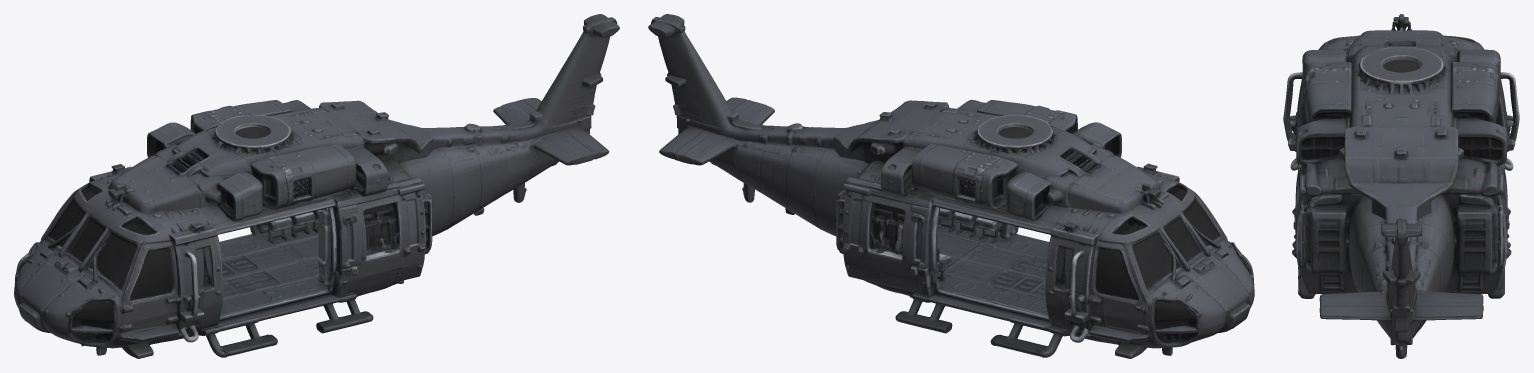
The model's file is military_helicopter.glb.
The picture shows the model from 3 angles, left to right: view 1: azimuth 30°, elevation 25°; view 2: azimuth 150°, elevation 25°; view 3: azimuth 270°, elevation 25°; orthographic projection. The views are drawn at different scales.
Parts seen in each view (by area): view 1: tripo_node_9f9af773-021b-40d3-ae61-2e1a36aed668; view 2: tripo_node_9f9af773-021b-40d3-ae61-2e1a36aed668; view 3: tripo_node_9f9af773-021b-40d3-ae61-2e1a36aed668.
Part boxes in pixels (left/top/right/bottom): tripo_node_9f9af773-021b-40d3-ae61-2e1a36aed668: left=14, top=14, right=619, bottom=358; tripo_node_9f9af773-021b-40d3-ae61-2e1a36aed668: left=648, top=14, right=1254, bottom=358; tripo_node_9f9af773-021b-40d3-ae61-2e1a36aed668: left=1283, top=14, right=1519, bottom=358.
Size of the model in its own units: 1 by 0.3266 by 0.3124.
Materials: 1 (1 with a texture image).
